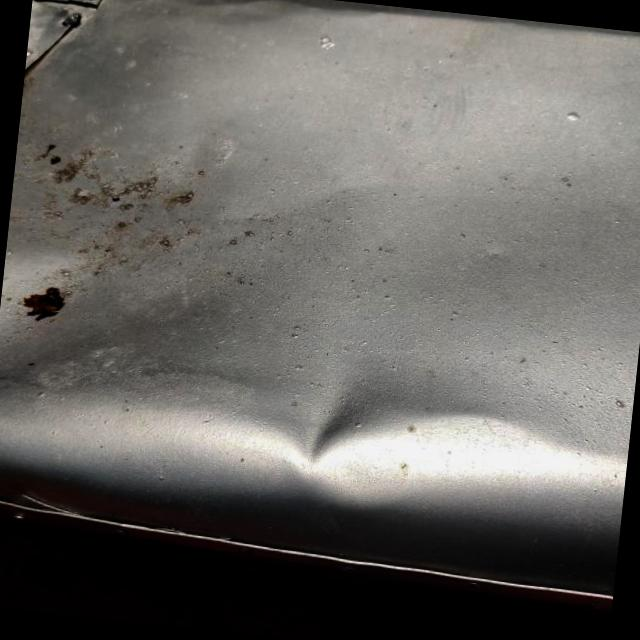dent: (241, 325, 424, 490)
